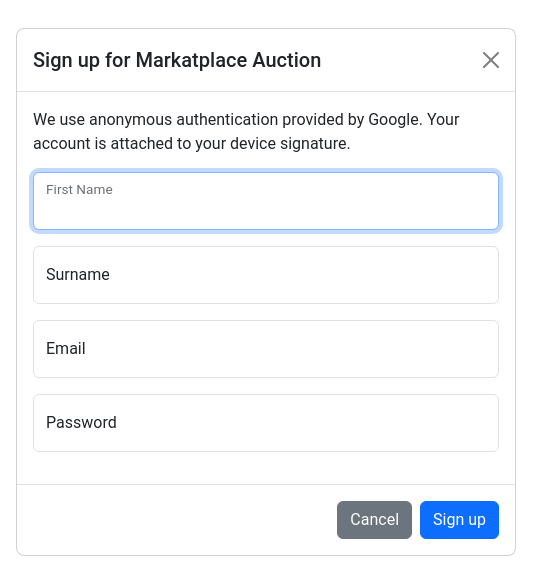
SignUpModal › Name validation errors › displays validation error when first name is empty on submit
The image size is (533, 586).
# Fill surname so only first name triggers error
Step 1. Type "Smith" into the field with placeholder "Enter your surname" → (266, 275), box [33,246,499,304]
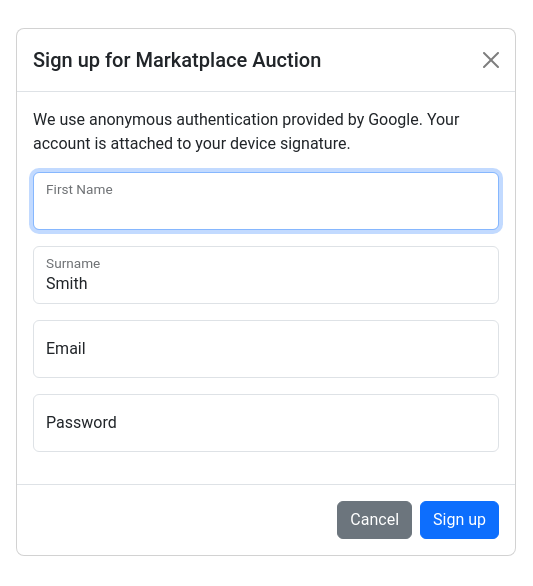
Step 2. Click the button "Sign up" → (460, 520), box [420,501,499,539]
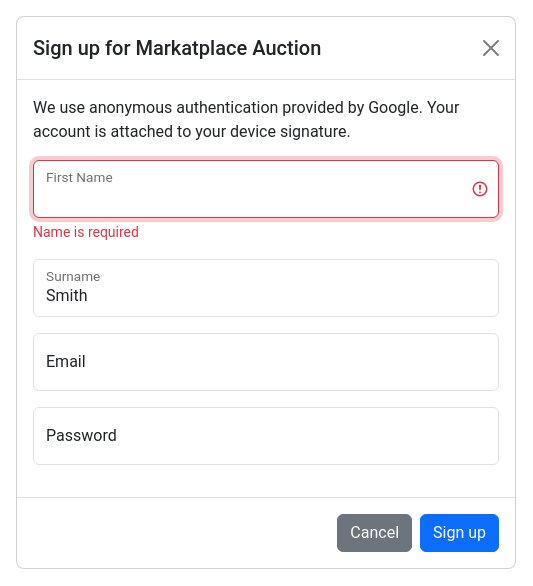
Expected: the element with placeholder "Enter your first name" shows "Name is required", [33,224,139,240]
